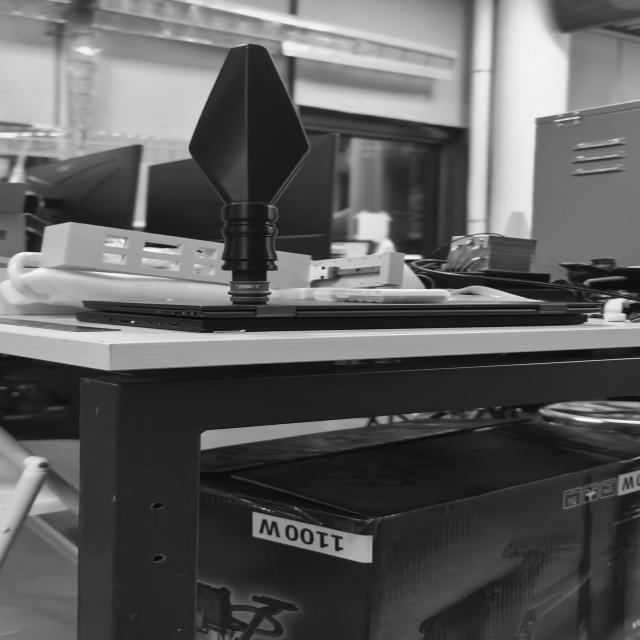base: (228, 280, 273, 303)
